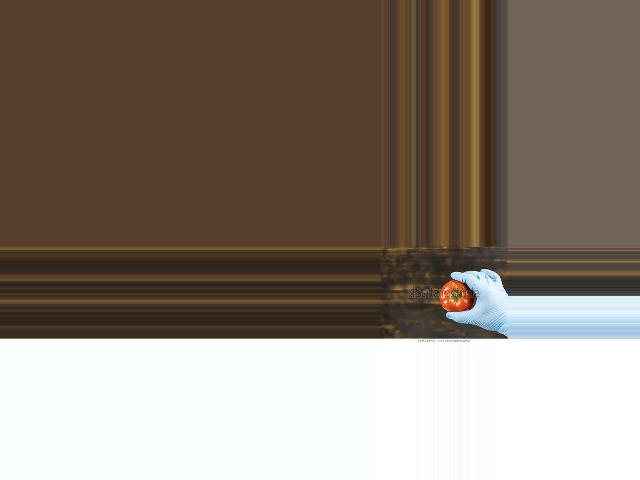tomato: (438, 280, 474, 312)
